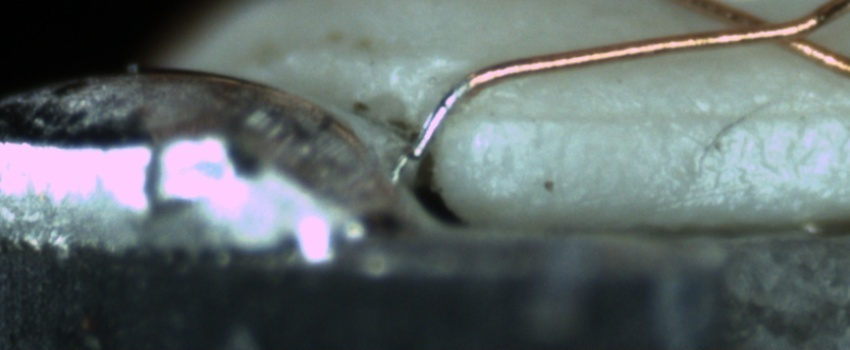CL: (701, 3, 847, 57)
DL: (487, 82, 849, 149)
TS: (411, 76, 472, 156)
